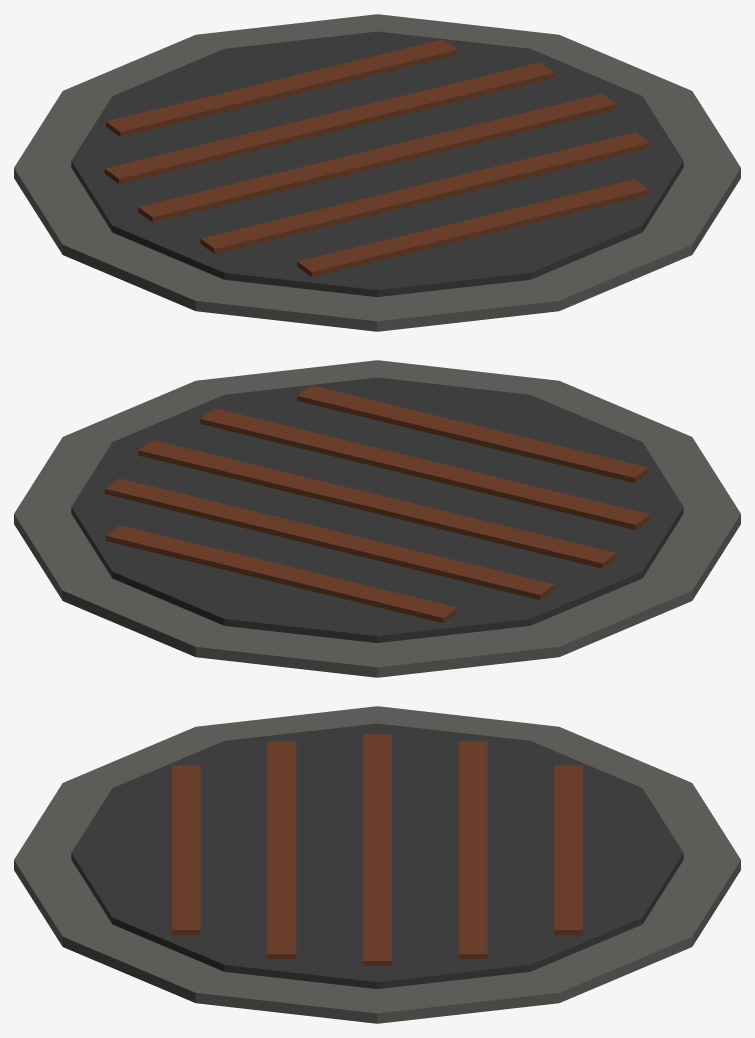
Rendered from manhole.glb.
3 renders of one model, top to bottom at view 1: azimuth 30°, elevation 25°; view 2: azimuth 150°, elevation 25°; view 3: azimuth 270°, elevation 25°, orthographic.
Visible parts, largest first — view 1: manhole; view 2: manhole; view 3: manhole.
Part boxes in pixels (x1,y1,x2,y2): manhole: (14,14,740,331); manhole: (14,360,740,677); manhole: (14,706,740,1023).
Size of the model in its own units: 0.76 by 0.026 by 0.76.
1 material, 1 textured.
